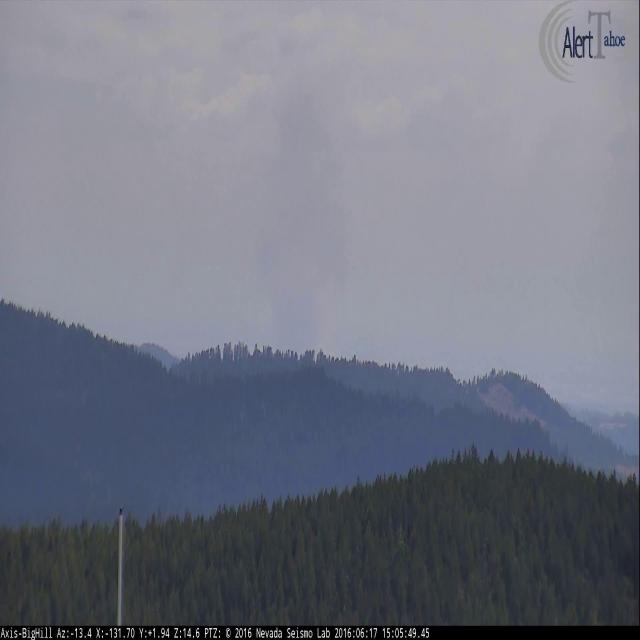smoke: (250, 86, 354, 353)
